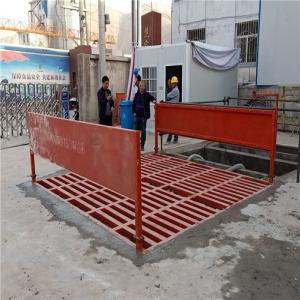none: (103, 76, 111, 90), (140, 82, 146, 93), (168, 78, 172, 88)
yellow: (171, 77, 179, 89)
